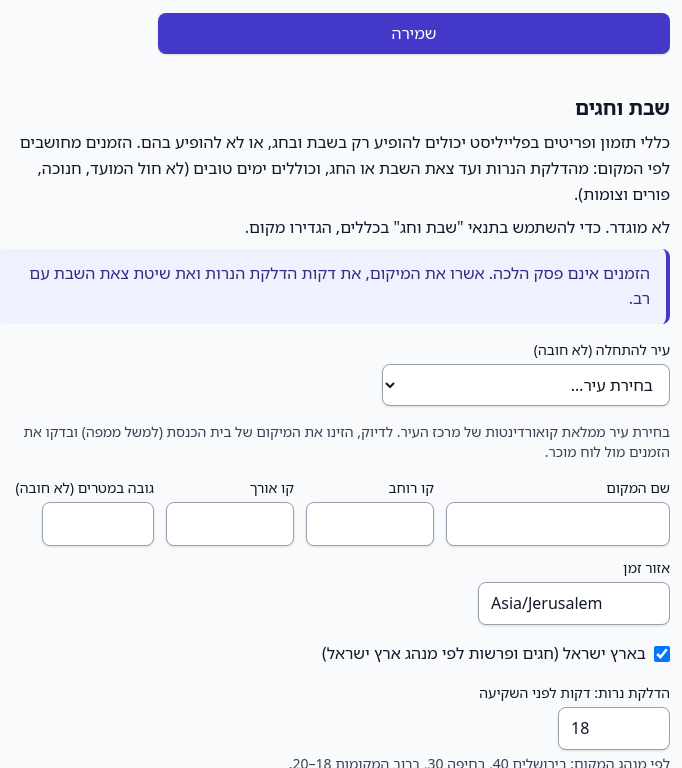
Scenario: Shabbat and holiday settings › sets the place from a city, saves it and lists the coming periods
(page scrolled)
Check: the text "לא מוגדר. כדי להשתמש בתנאי \"שבת וחג\" בכללים, הגדירו מקום." is shown, box top-left (245, 216), bottom-right (670, 238)
Check: the text "אינם פסק הלכה" is shown, box top-left (29, 262), bottom-right (650, 309)
Step 1. Select "ירושלים" in the dropdown labelled "עיר להתחלה (לא חובה)" → (526, 385), box top-left (382, 364), bottom-right (670, 406)
(page scrolled)
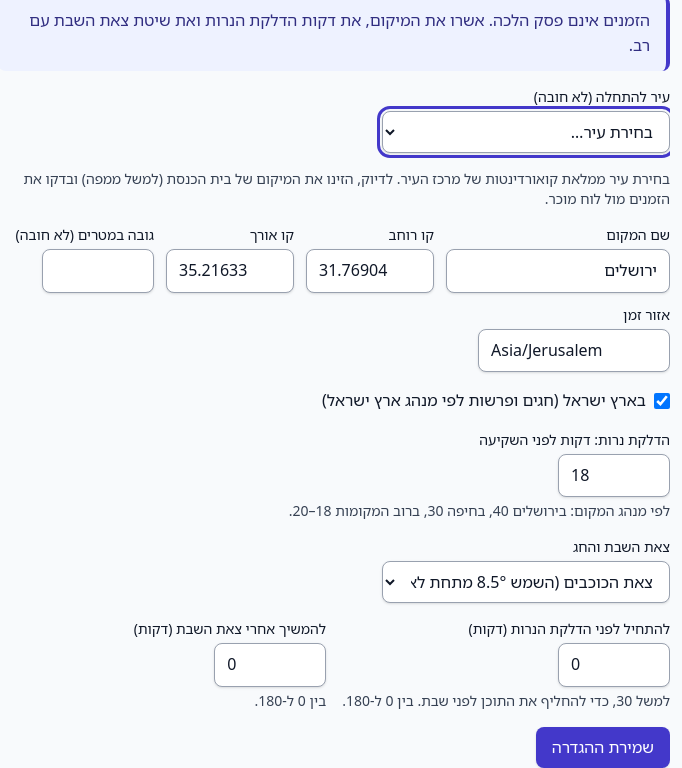
Check: the field labelled "קו רוחב" holds "31.76904", box top-left (306, 249), bottom-right (434, 292)
Step 2. Replace the text in the number field labelled "להתחיל לפני הדלקת הנרות (דקות)" with "30" → (614, 665), box top-left (558, 643), bottom-right (670, 687)
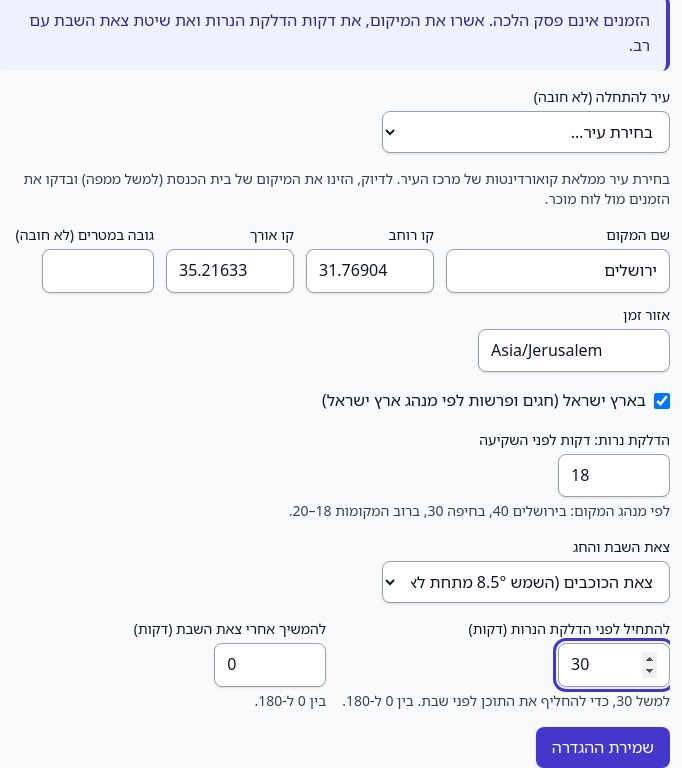
Step 3. Click the button "שמירת ההגדרה" → (603, 748), box top-left (536, 727), bottom-right (670, 767)
(page scrolled)
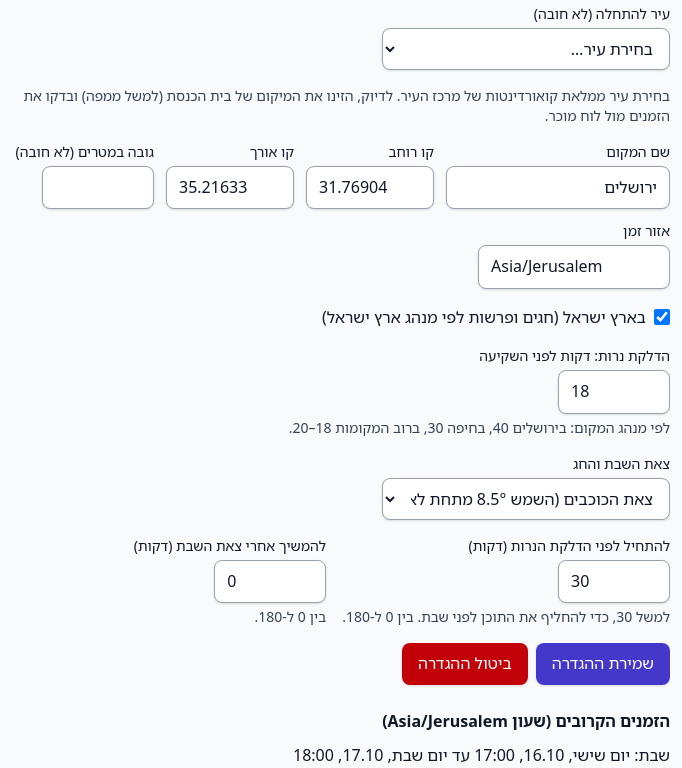
Check: the list item reads "שבת: יום שישי, 16.10, 17:00 עד יום שבת, 17.10, 18:00", box top-left (293, 744), bottom-right (670, 766)
